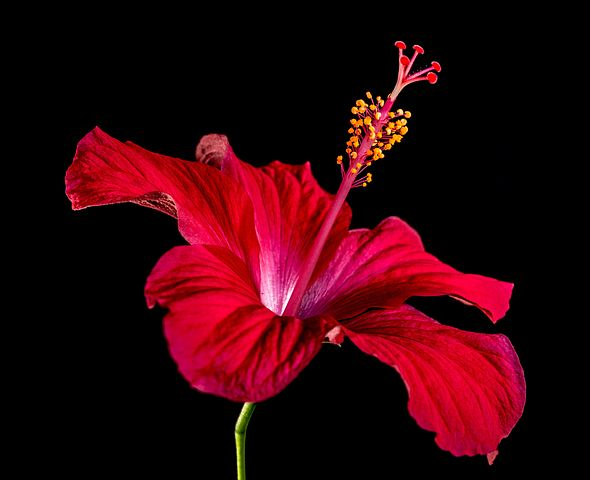Hibiscus: (56, 23, 565, 467)
